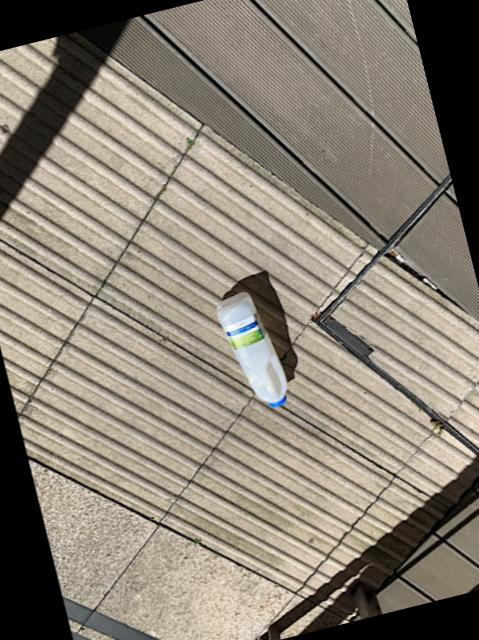plastic: (214, 291, 284, 405)
